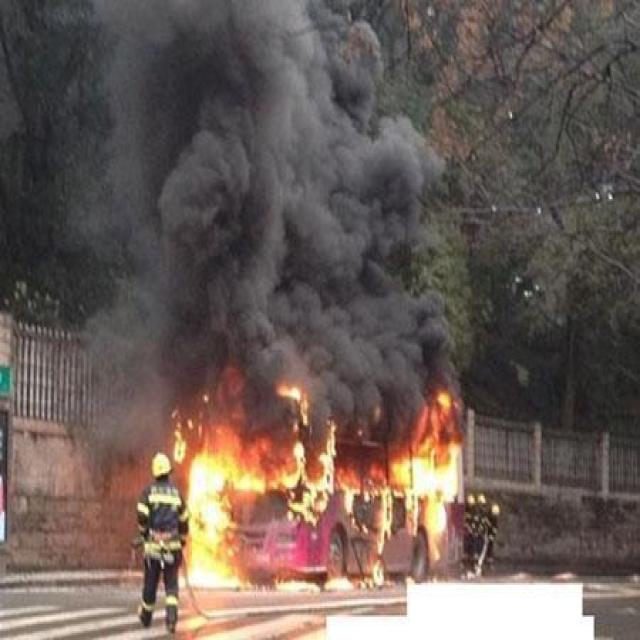fire: (169, 379, 461, 597)
smoke: (79, 4, 464, 422)
